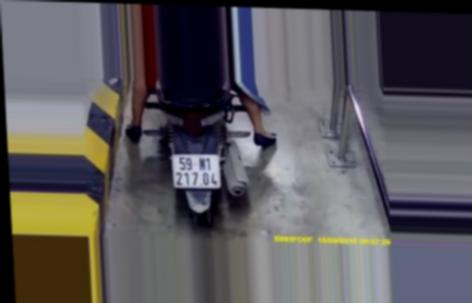License_Plate: (167, 153, 224, 189)
